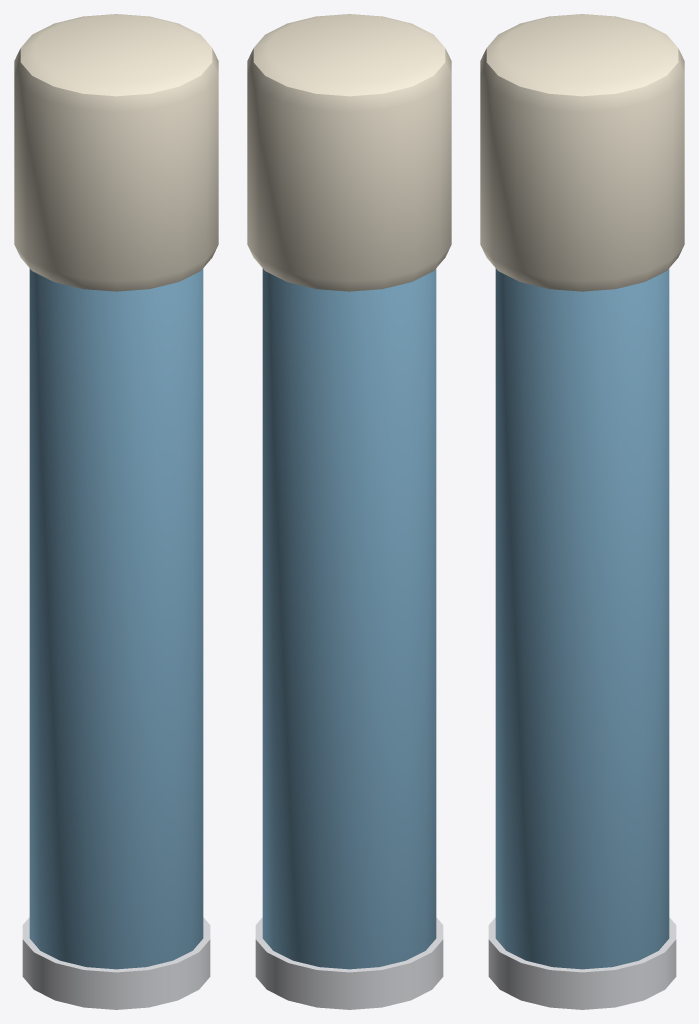
Rendered from needle_case.glb.
3 views of the same model, side by side, from view 1: azimuth 30°, elevation 25°; view 2: azimuth 150°, elevation 25°; view 3: azimuth 270°, elevation 25° (orthographic).
Parts seen in each view (by area): view 1: needle_case; view 2: needle_case; view 3: needle_case.
Part boxes in pixels (x1,y1,x2,y2): needle_case: (14, 14, 218, 1009); needle_case: (247, 14, 451, 1009); needle_case: (480, 14, 684, 1009).
Bounding box in the file's own units: 0.02 × 0.098 × 0.0197.
